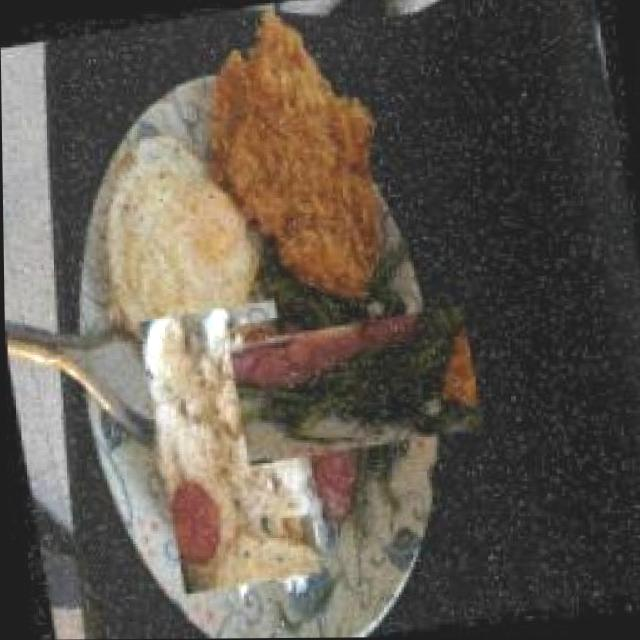chinese_sausage: (239, 308, 364, 522)
fried_chicken: (187, 0, 409, 314)
fried_eggs: (91, 111, 274, 367)
rice: (136, 296, 323, 597)
water_spinach: (248, 279, 459, 489)
